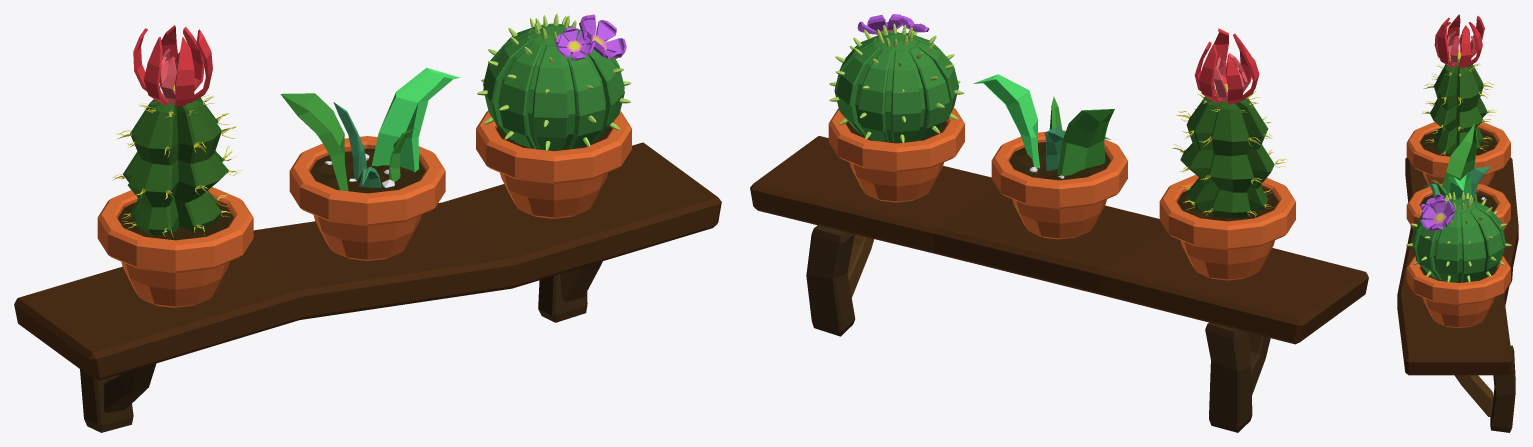
The picture shows the model from 3 angles, left to right: view 1: azimuth 30°, elevation 25°; view 2: azimuth 150°, elevation 25°; view 3: azimuth 270°, elevation 25°; orthographic projection. The views are drawn at different scales.
Parts seen in each view (by area): view 1: Rack, Succulent1, RoundCactus, Aloe1; view 2: Rack, Succulent1, RoundCactus, Aloe1; view 3: Rack, RoundCactus, Succulent1, Aloe1.
Part boxes in pixels (bbox=[...]): Rack: bbox=[14, 142, 721, 432]; Succulent1: bbox=[97, 25, 253, 307]; RoundCactus: bbox=[476, 14, 631, 218]; Aloe1: bbox=[280, 67, 460, 260]; Rack: bbox=[750, 136, 1368, 432]; Succulent1: bbox=[1159, 28, 1295, 280]; RoundCactus: bbox=[828, 14, 964, 202]; Aloe1: bbox=[973, 74, 1127, 239]; Rack: bbox=[1397, 157, 1518, 432]; RoundCactus: bbox=[1406, 192, 1511, 327]; Succulent1: bbox=[1406, 14, 1510, 186]; Aloe1: bbox=[1406, 123, 1510, 229].
Bounding box in the file's own units: 125 × 78.01 × 31.01.
